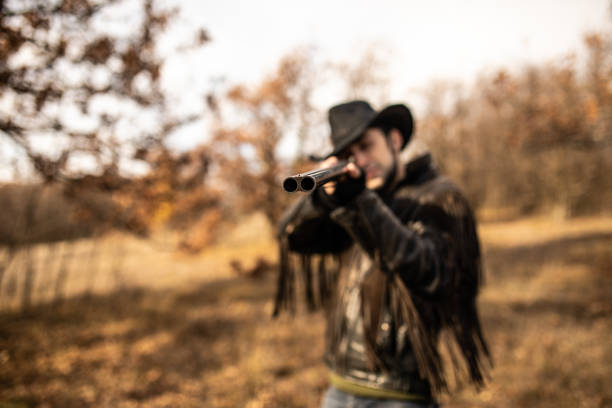gun: (282, 160, 351, 193)
